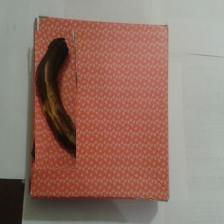Banana Rotten: (36, 31, 77, 169)
